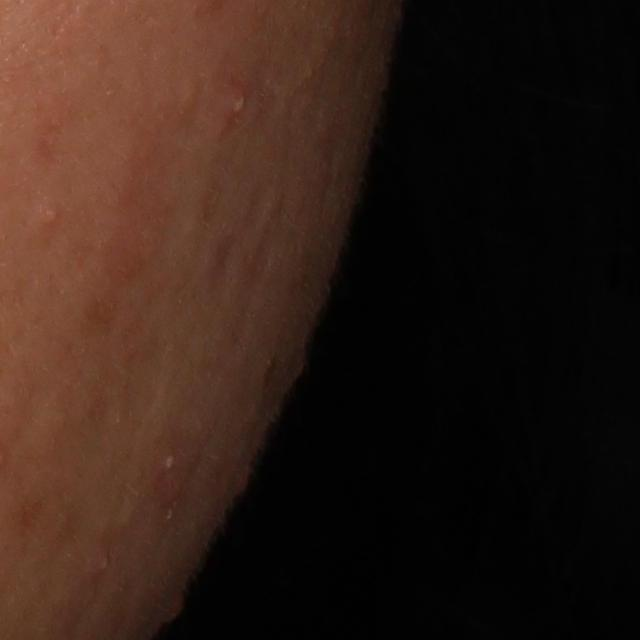pustule: (226, 82, 250, 123)
